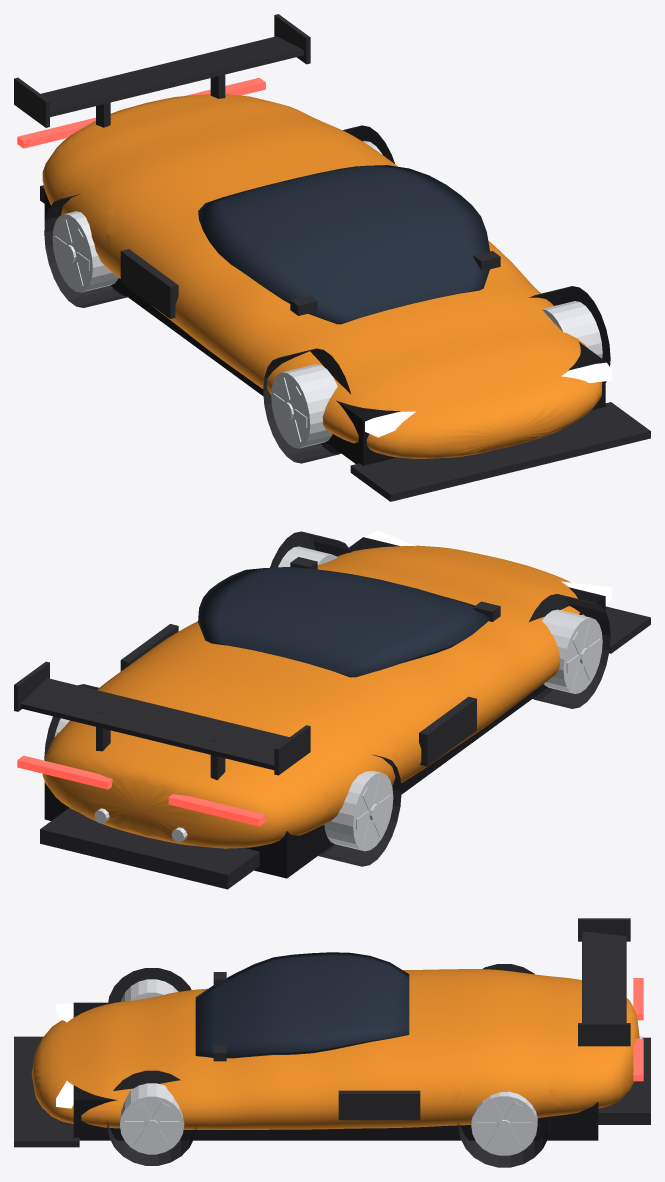
3 renders of one model, top to bottom at view 1: azimuth 30°, elevation 25°; view 2: azimuth 150°, elevation 25°; view 3: azimuth 270°, elevation 25°, orthographic. The views are drawn at different scales.
Visible parts, largest first — view 1: Body, Glass, Splitter, Wing, Wheel_FL, Wheel_RL, Underbody, Wheel_FR, Intake, WingEnd, Taillight, WingEnd.001 (+2 smaller); view 2: Body, Glass, Wing, Diffuser, Wheel_FL, Wheel_RL, Underbody, Intake, Wheel_FR, Taillight, Taillight.001, Splitter (+3 smaller); view 3: Body, Glass, Underbody, Wheel_FR, Wheel_RR, Wing, Splitter, Intake.001, Diffuser, Wheel_FL, WingEnd.001, WingEnd (+3 smaller).
Boxes of the visible parts, left/top/right/bottom form: Body: left=42, top=94, right=602, bottom=458; Glass: left=198, top=165, right=489, bottom=324; Splitter: left=350, top=402, right=650, bottom=501; Wing: left=41, top=36, right=303, bottom=117; Wheel_FL: left=263, top=348, right=350, bottom=463; Wheel_RL: left=44, top=194, right=127, bottom=307; Underbody: left=44, top=190, right=605, bottom=465; Wheel_FR: left=529, top=286, right=610, bottom=382; Intake: left=120, top=249, right=178, bottom=318; WingEnd: left=14, top=77, right=49, bottom=127; Taillight: left=17, top=117, right=95, bottom=148; WingEnd.001: left=274, top=14, right=310, bottom=64; Body: left=42, top=545, right=584, bottom=848; Glass: left=198, top=567, right=489, bottom=677; Wing: left=20, top=678, right=289, bottom=769; Diffuser: left=40, top=807, right=259, bottom=889; Wheel_FL: left=529, top=594, right=610, bottom=708; Wheel_RL: left=318, top=754, right=401, bottom=866; Underbody: left=44, top=537, right=605, bottom=878; Intake: left=419, top=696, right=476, bottom=766; Wheel_FR: left=270, top=531, right=350, bottom=567; Taillight: left=168, top=794, right=265, bottom=826; Taillight.001: left=17, top=755, right=112, bottom=789; Splitter: left=605, top=606, right=650, bottom=653; Body: left=31, top=969, right=639, bottom=1129; Glass: left=195, top=952, right=409, bottom=1058; Underbody: left=73, top=1002, right=598, bottom=1140; Wheel_FR: left=107, top=1070, right=196, bottom=1165; Wheel_RR: left=458, top=1091, right=550, bottom=1167; Wing: left=582, top=931, right=626, bottom=1022; Splitter: left=14, top=1036, right=79, bottom=1147; Intake.001: left=338, top=1090, right=420, bottom=1120; Diffuser: left=598, top=1037, right=650, bottom=1124; Wheel_FL: left=108, top=968, right=191, bottom=1002; WingEnd.001: left=578, top=1023, right=630, bottom=1046; WingEnd: left=578, top=918, right=630, bottom=941.
Size of the model in its own units: 2.22 by 1.14 by 4.84.
